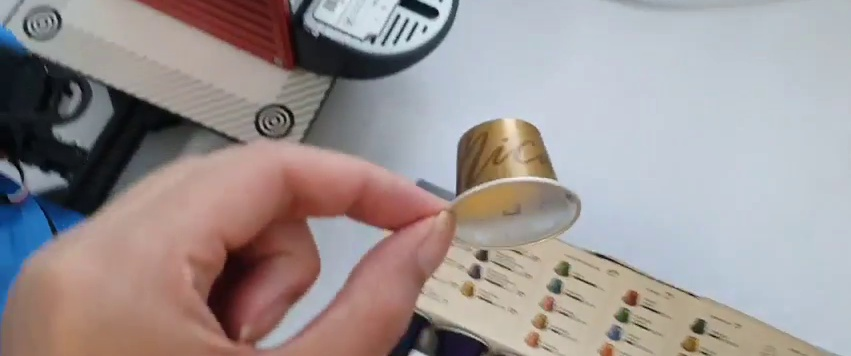capsule_9: (445, 116, 584, 249)
